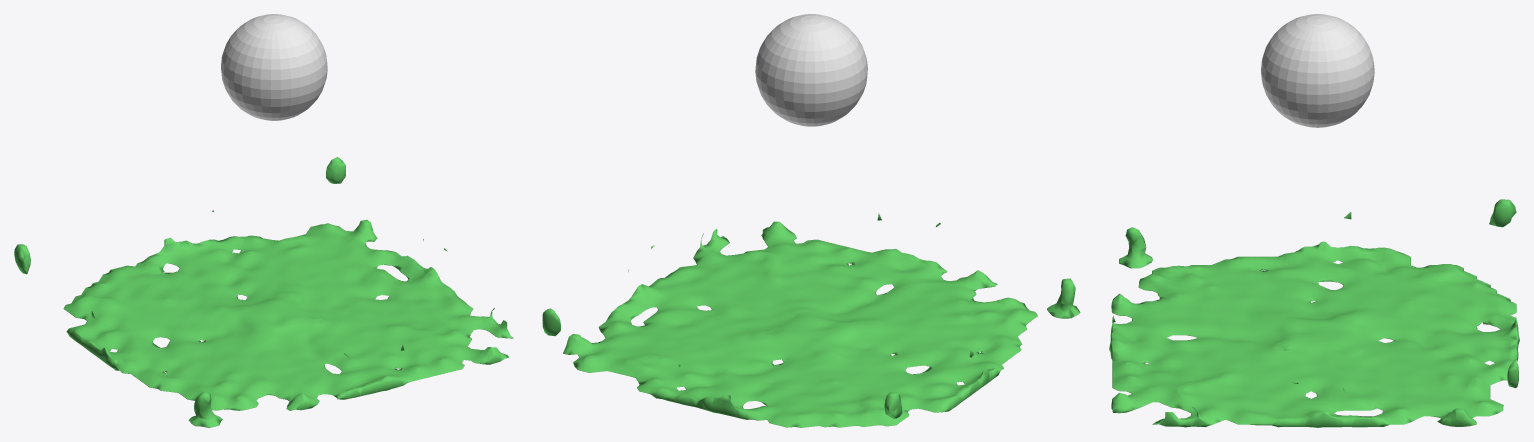
The model's file is puddle3.fbx.
3 renders of one model, left to right at view 1: azimuth 30°, elevation 25°; view 2: azimuth 150°, elevation 25°; view 3: azimuth 270°, elevation 25°, orthographic. The views are drawn at different scales.
Visible parts, largest first — view 1: Cube, Sphere; view 2: Cube, Sphere; view 3: Cube, Sphere.
Boxes of the visible parts, left/top/right/bottom form: Cube: left=14, top=157, right=513, bottom=427; Sphere: left=221, top=14, right=327, bottom=120; Cube: left=542, top=213, right=1080, bottom=427; Sphere: left=755, top=14, right=867, bottom=126; Cube: left=1109, top=199, right=1519, bottom=427; Sphere: left=1261, top=14, right=1374, bottom=127.
Bounding box in the file's own units: 610 × 534 × 611.
